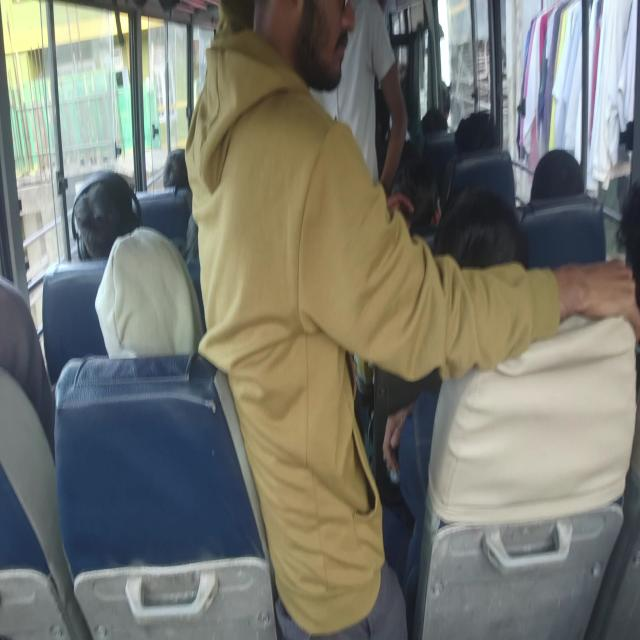person: (112, 286, 248, 431), (279, 0, 396, 146), (441, 198, 582, 317), (253, 0, 335, 156), (0, 282, 66, 400), (83, 164, 153, 262), (450, 112, 522, 183), (405, 167, 470, 234), (534, 151, 612, 190), (429, 104, 473, 154), (168, 147, 200, 187)
